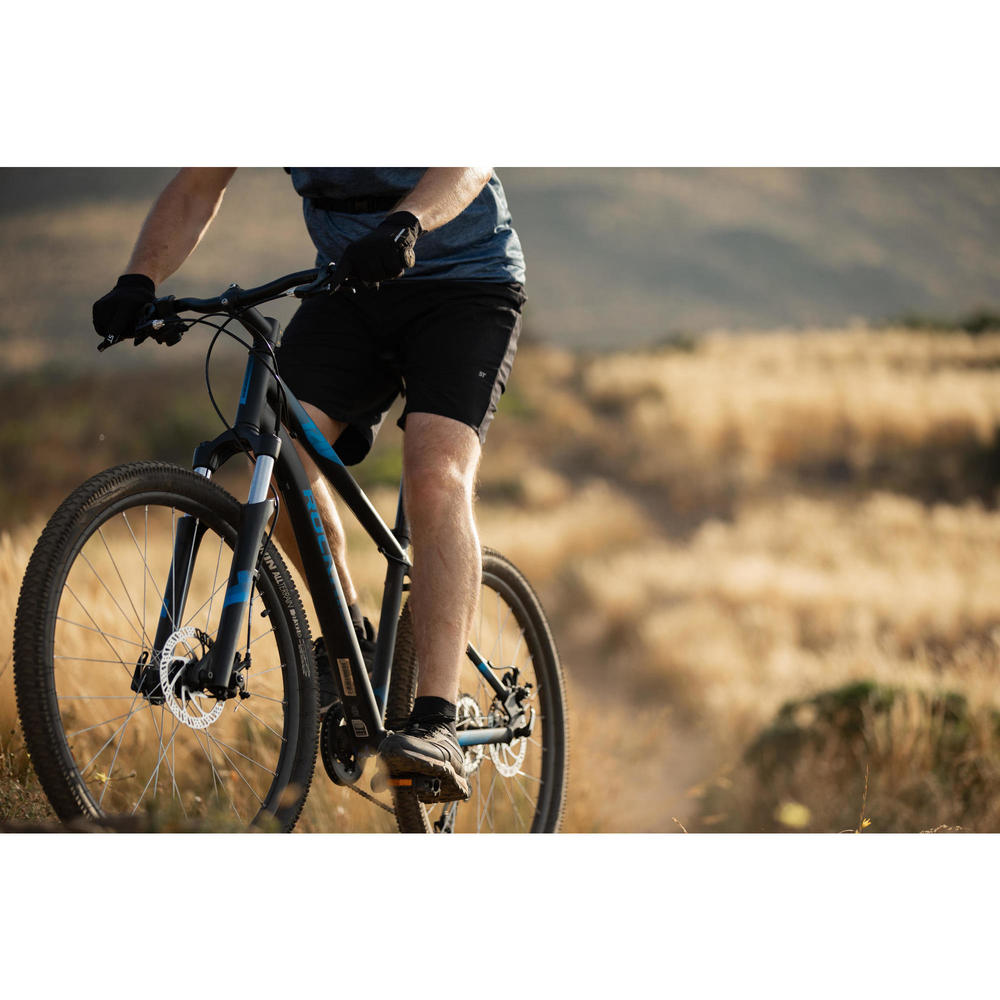MountainBike: (17, 239, 561, 838)
